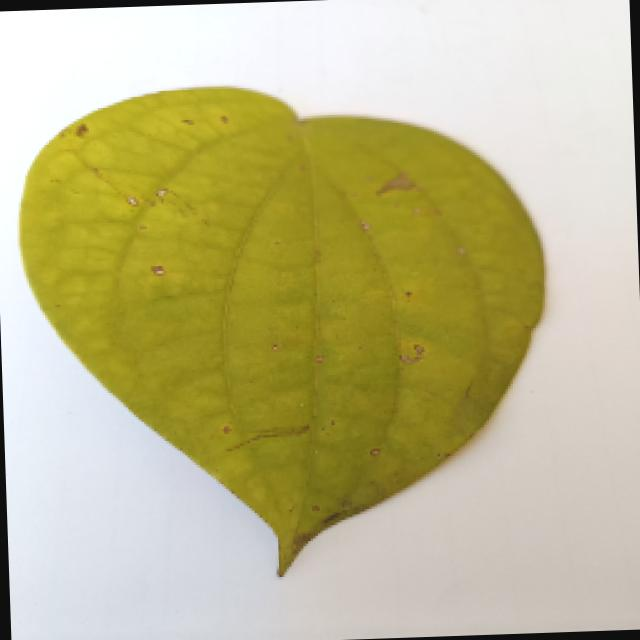slow-decline: (4, 75, 612, 598)
